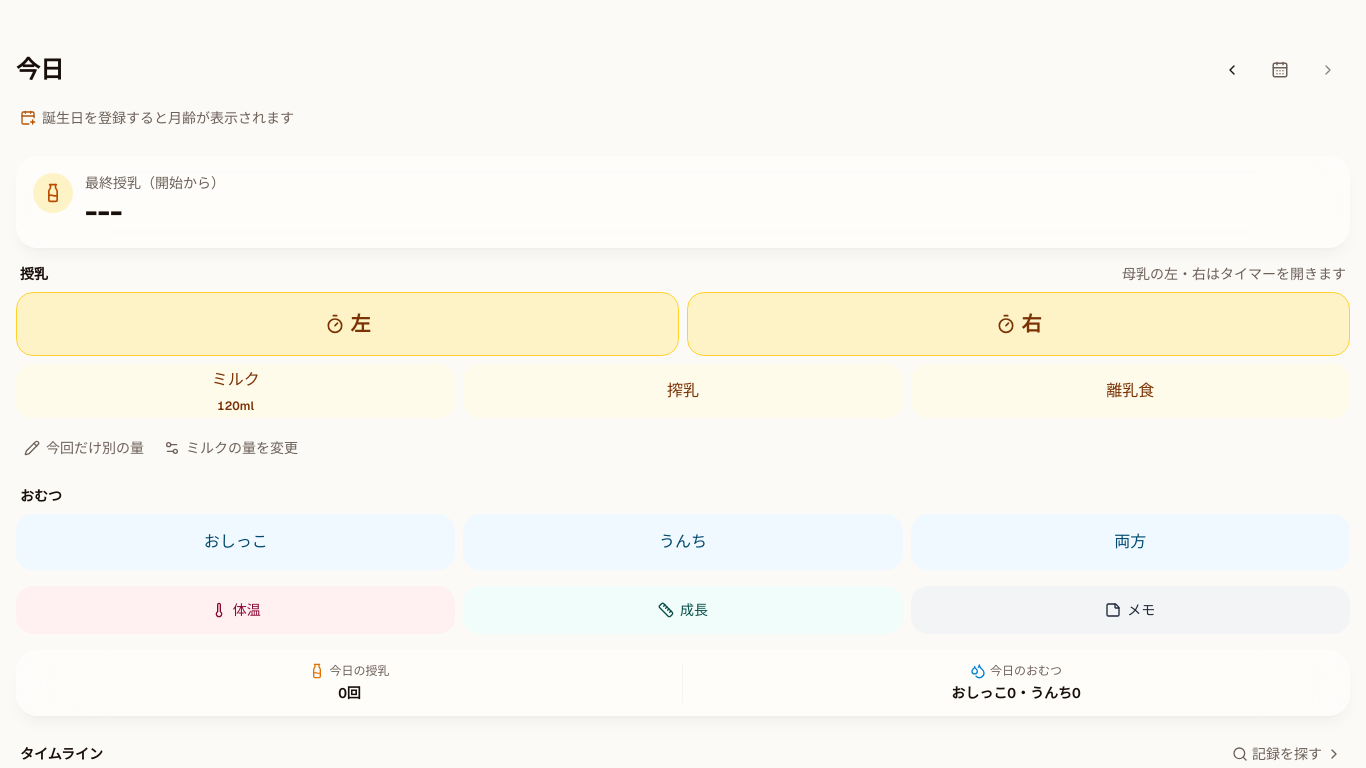
Test: BabyDashboard / baby_logs の復帰時再取得（P1-04） › 取得中に手元で記録した行（楽観 append）は、取得結果に無くても消えない
Click the button "おしっこ".
click(236, 542)  # box [16,514,455,570]
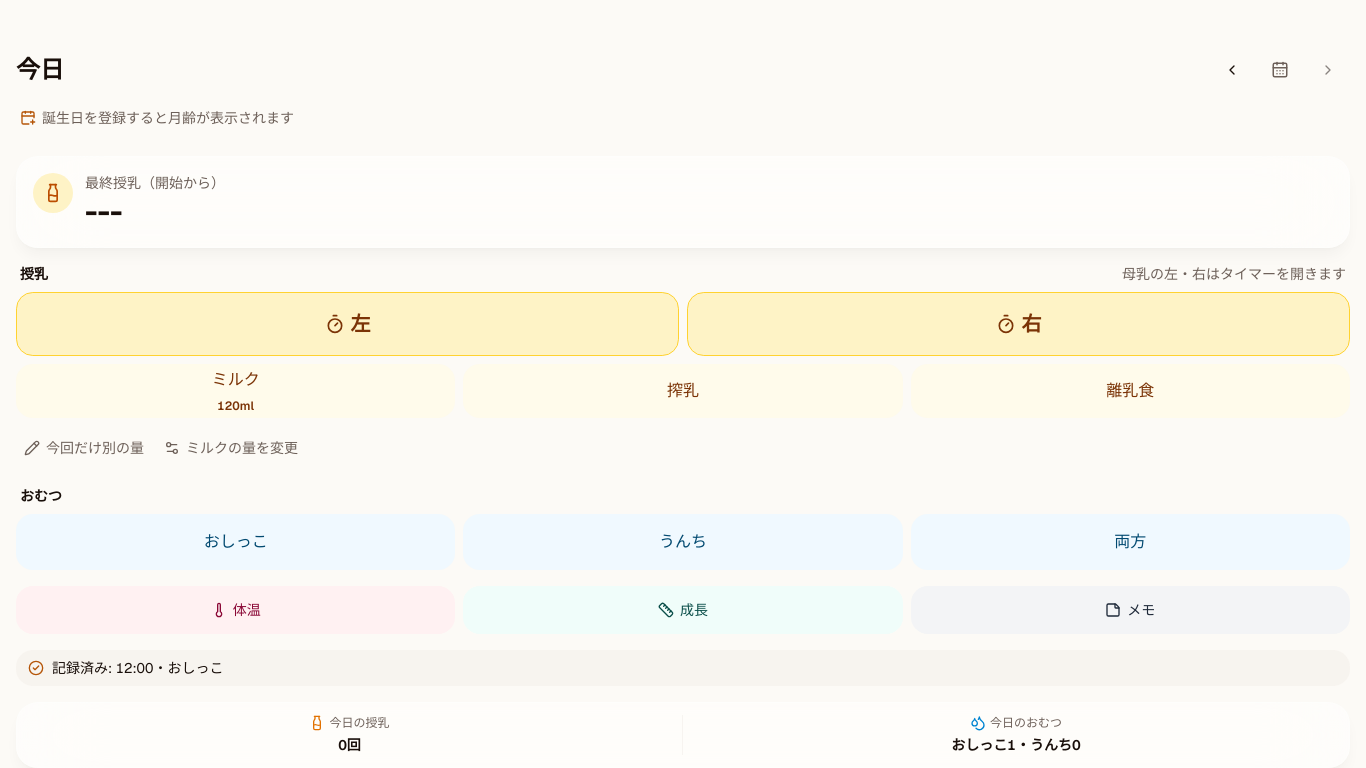
expect the text "おしっこ1・うんち0" is shown: met, box [951,734,1081,754]
